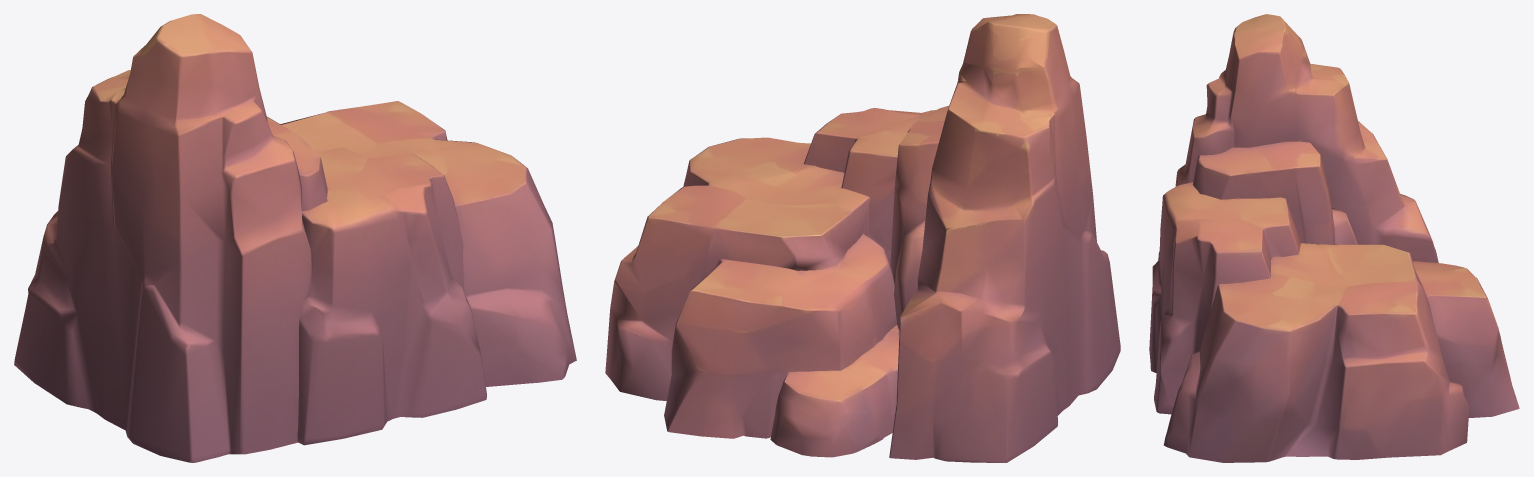
Rendered from cliff-module-a.glb.
The picture shows the model from 3 angles, left to right: view 1: azimuth 30°, elevation 25°; view 2: azimuth 150°, elevation 25°; view 3: azimuth 270°, elevation 25°; orthographic projection. The views are drawn at different scales.
Visible parts, largest first — view 1: tripo_node_2208a5ab-5683-4679-972e-1118086d9828; view 2: tripo_node_2208a5ab-5683-4679-972e-1118086d9828; view 3: tripo_node_2208a5ab-5683-4679-972e-1118086d9828.
Part boxes in pixels (x1,y1,x2,y2): tripo_node_2208a5ab-5683-4679-972e-1118086d9828: (14, 14, 576, 462); tripo_node_2208a5ab-5683-4679-972e-1118086d9828: (605, 14, 1120, 462); tripo_node_2208a5ab-5683-4679-972e-1118086d9828: (1149, 14, 1519, 462).
Size of the model in its own units: 3.5 by 2.95 by 3.18.
Materials: 1 (1 with a texture image).
